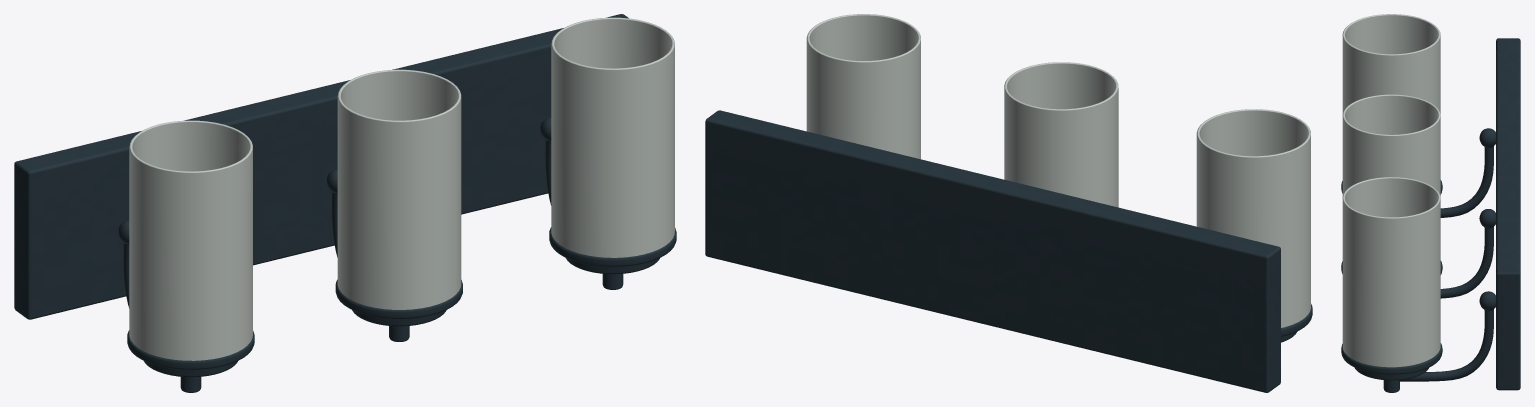
File: abo-B07QB7HXYQ.glb
The picture shows the model from 3 angles, left to right: view 1: azimuth 30°, elevation 25°; view 2: azimuth 150°, elevation 25°; view 3: azimuth 270°, elevation 25°; orthographic projection. The views are drawn at different scales.
Bounding box in the file's own units: 0.451 × 0.172 × 0.145.
1 material, 1 textured.
